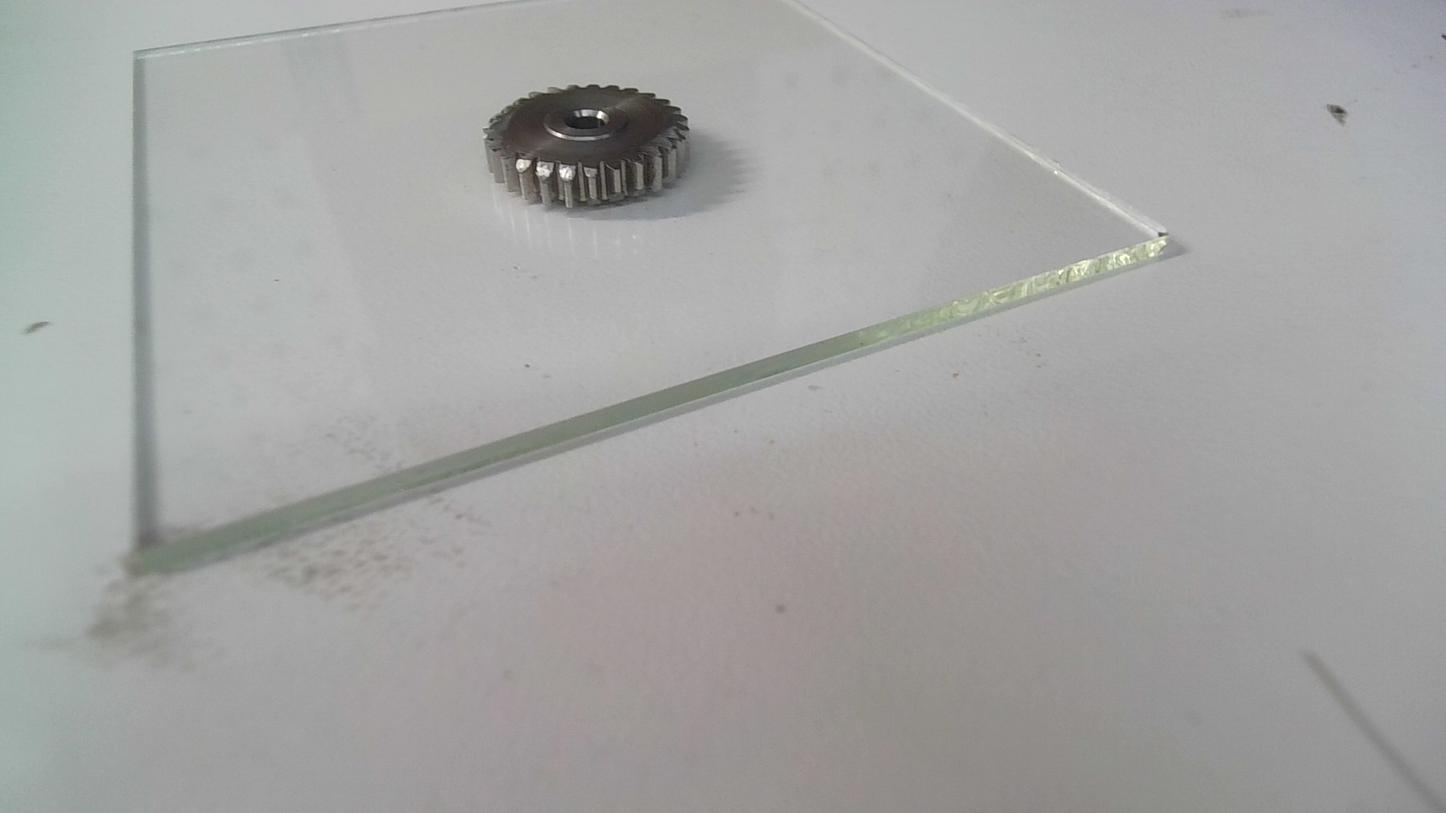gear: (480, 80, 694, 212)
